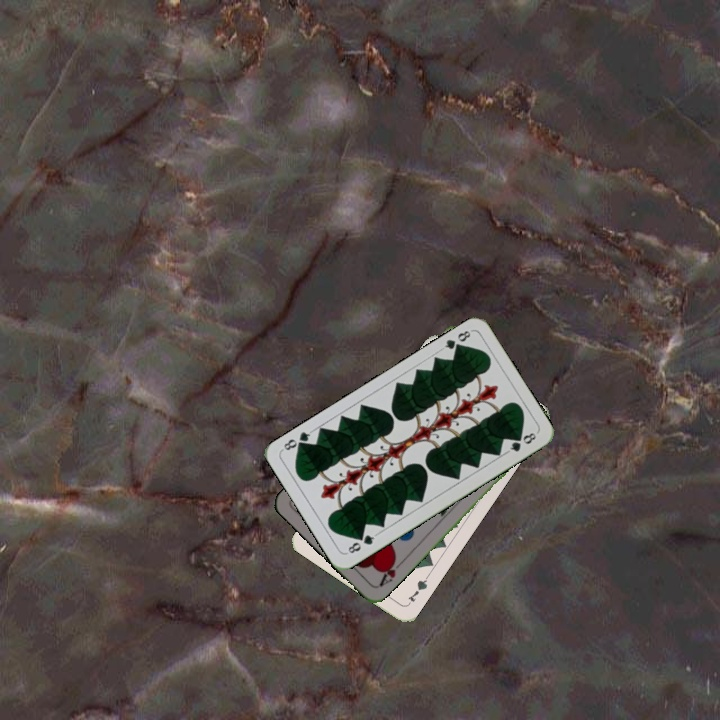G7: (403, 572, 431, 608)
G8: (437, 326, 473, 354), (342, 530, 379, 556)
HA: (375, 553, 406, 590)
